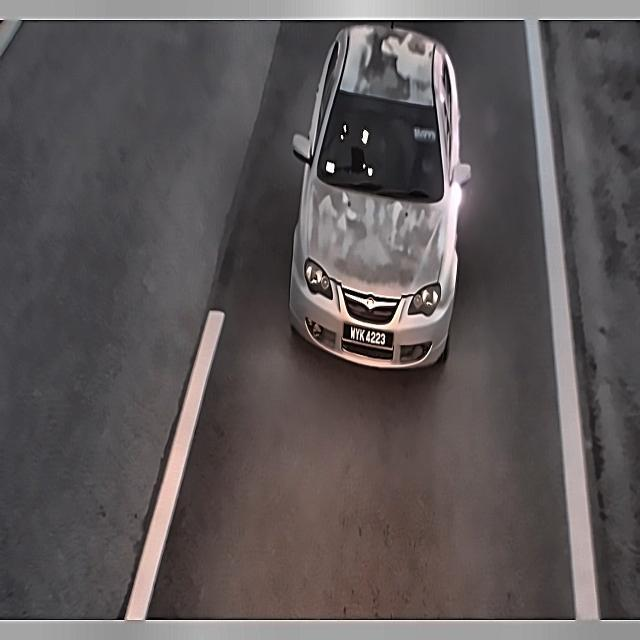car: (342, 318, 393, 357)
